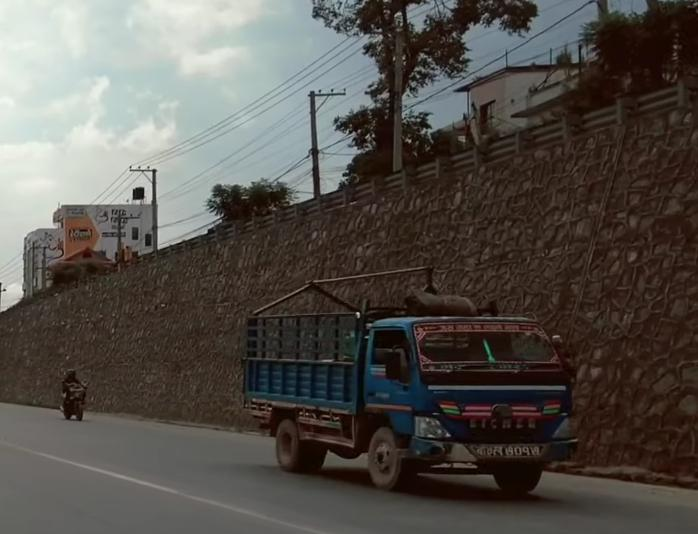bike: (44, 365, 101, 427)
mini_truck: (241, 257, 582, 498)
